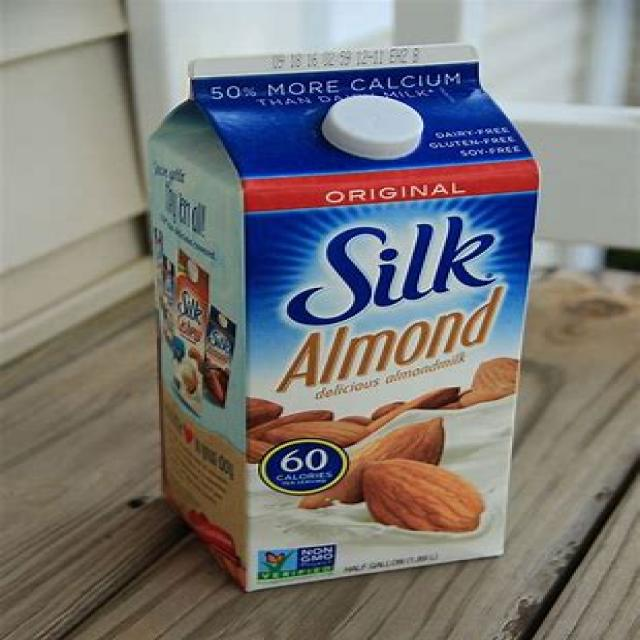non_white_jug: (138, 37, 515, 596)
